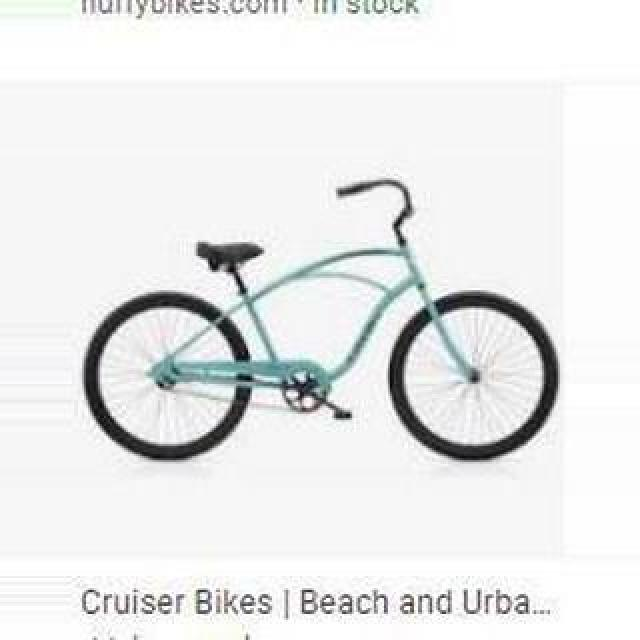Person: (79, 173, 559, 471)
